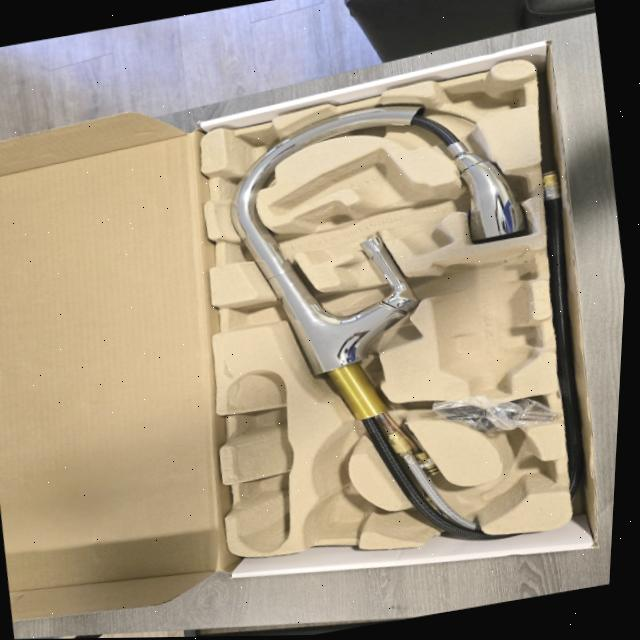1: (230, 103, 519, 540)
2m: (265, 147, 452, 253)
3m: (432, 243, 537, 400)
4m: (227, 370, 291, 551)
5m: (310, 485, 370, 537)
6m: (468, 459, 553, 511)
7: (431, 395, 568, 432)
